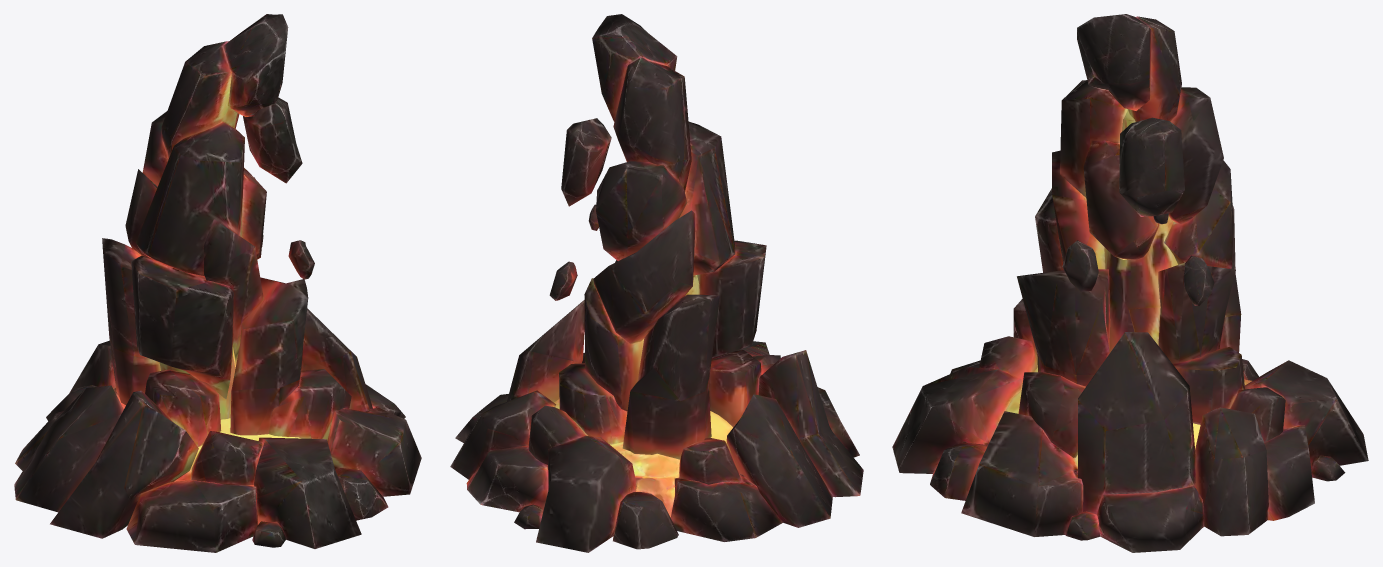
Rendered from lava_pillar_1.glb.
3 views of the same model, side by side, from view 1: azimuth 30°, elevation 25°; view 2: azimuth 150°, elevation 25°; view 3: azimuth 270°, elevation 25° (orthographic). The views are drawn at different scales.
Bounding box in the file's own units: 0.9004 × 1 × 0.9199.
Materials: 1 (1 with a texture image).
